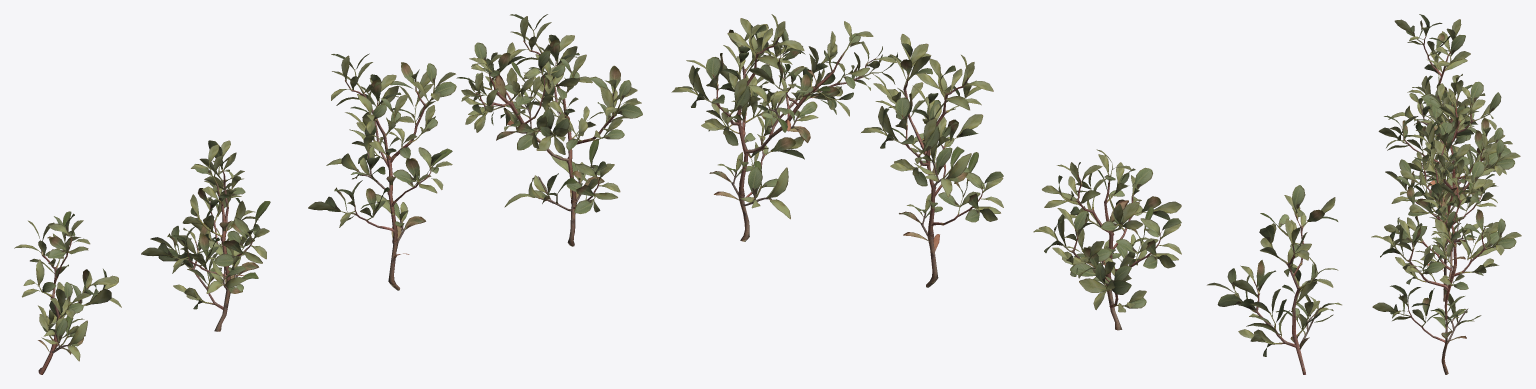
The model's file is garden-shrub.glb.
3 renders of one model, left to right at view 1: azimuth 30°, elevation 25°; view 2: azimuth 150°, elevation 25°; view 3: azimuth 270°, elevation 25°, orthographic. The views are drawn at different scales.
Visible parts, largest first — view 1: shrub_04; view 2: shrub_04; view 3: shrub_04.
Boxes of the visible parts, x1,y1,x2,y2 form: shrub_04: (14,14,642,374); shrub_04: (671,14,1341,374); shrub_04: (1371,14,1521,374).
Bounding box in the file's own units: 0.5837 × 0.2192 × 0.146.
1 material, 1 textured.
